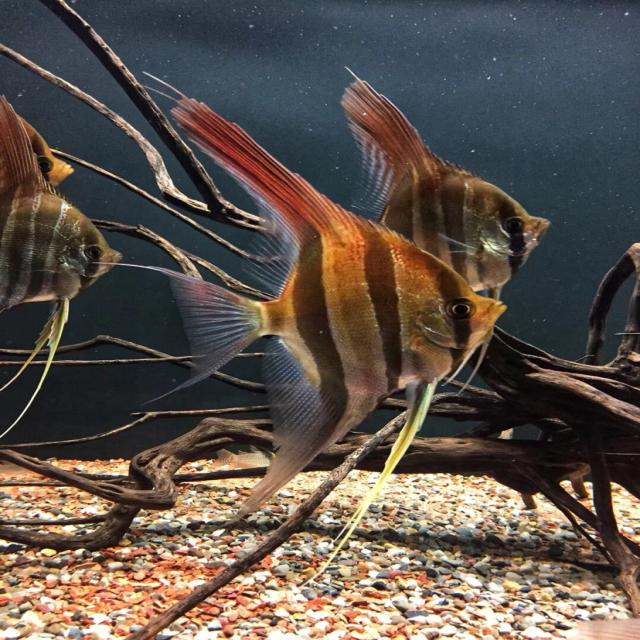AngelFish: (173, 92, 505, 534), (343, 76, 550, 274), (0, 99, 119, 422)
